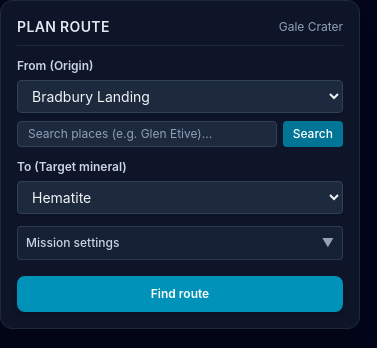
it: RoutePanel › allows canceling an in-flight route search (edge - cancel)
Click the button "Find route": (180, 294) [17,276,343,312]
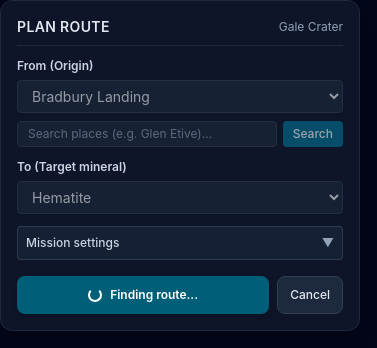
Expected: the button "Cancel" is shown
Click the button "Cancel": (310, 295) [277,276,343,314]
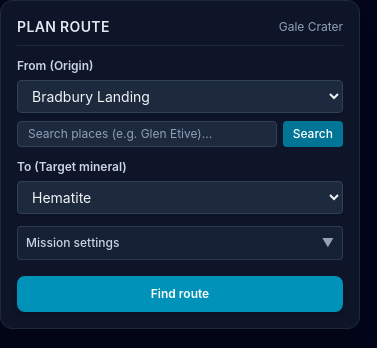
Expected: the button "Find route" is shown, [17,276,343,312]
